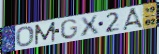2: (106, 11, 121, 33)
A: (122, 7, 144, 31)
G: (59, 18, 79, 40)
M: (34, 21, 56, 46)
O: (16, 25, 35, 48)
X: (79, 14, 100, 38)
